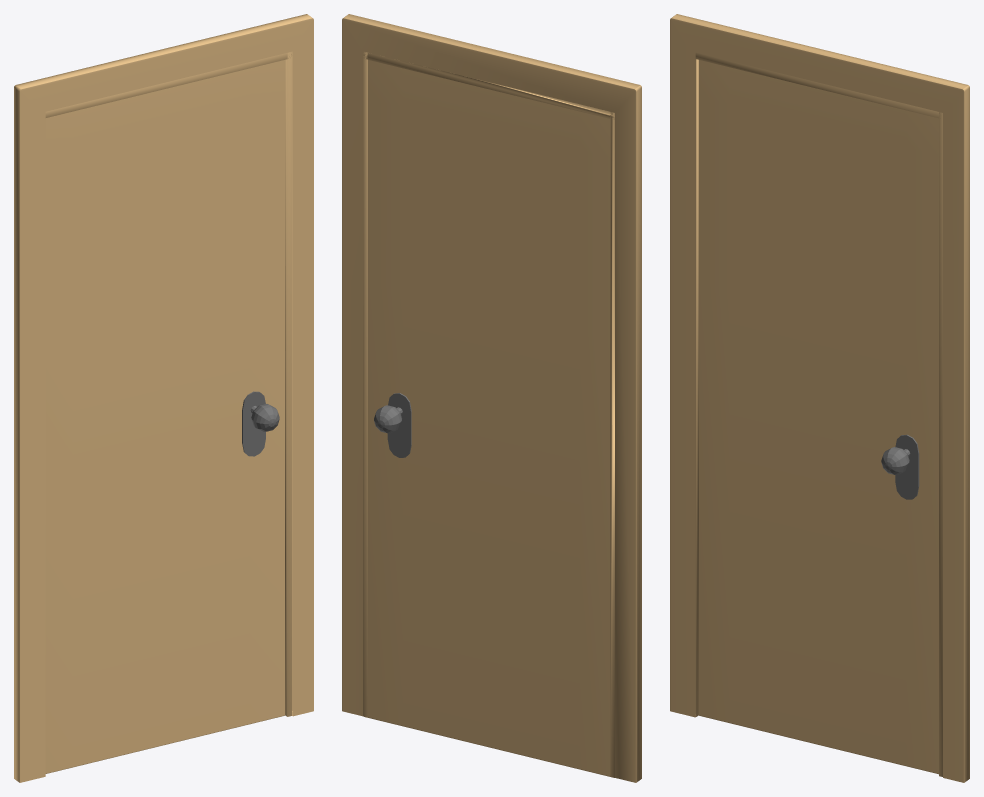
File: puerta2.fbx
3 renders of one model, left to right at view 1: azimuth 30°, elevation 25°; view 2: azimuth 150°, elevation 25°; view 3: azimuth 330°, elevation 25°, orthographic.
Visible parts, largest first — view 1: Puerta, Marco, Perilla; view 2: Puerta, Marco, Perilla; view 3: Puerta, Marco, Perilla.
Boxes of the visible parts, box(x1,y1,x2,y2) form: Puerta: box(45, 52, 292, 773); Marco: box(14, 14, 313, 782); Perilla: box(242, 391, 279, 456); Puerta: box(363, 51, 614, 777); Marco: box(342, 14, 641, 782); Perilla: box(374, 393, 411, 457); Puerta: box(695, 52, 942, 776); Marco: box(670, 14, 969, 782); Perilla: box(881, 434, 919, 499).
Bounding box in the file's own units: 552 × 1245 × 138.
